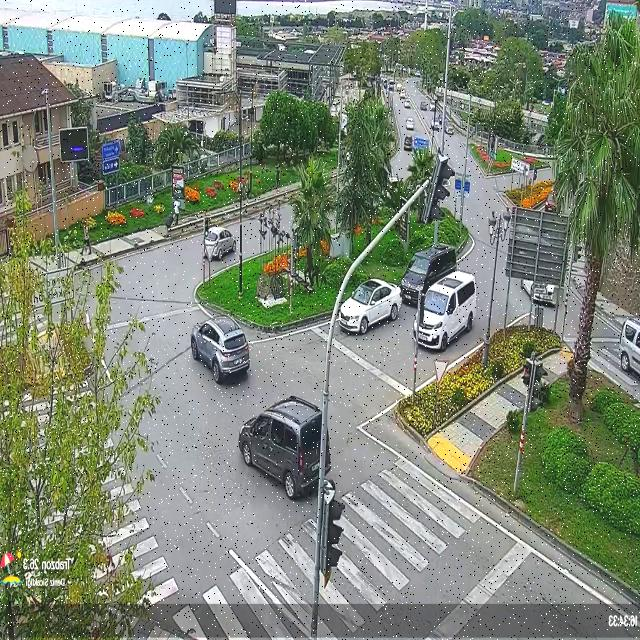car: (235, 400, 323, 507), (416, 268, 476, 349), (193, 317, 250, 386), (336, 274, 399, 336), (208, 226, 237, 258)
